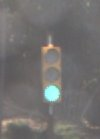Green: (35, 38, 67, 107)
